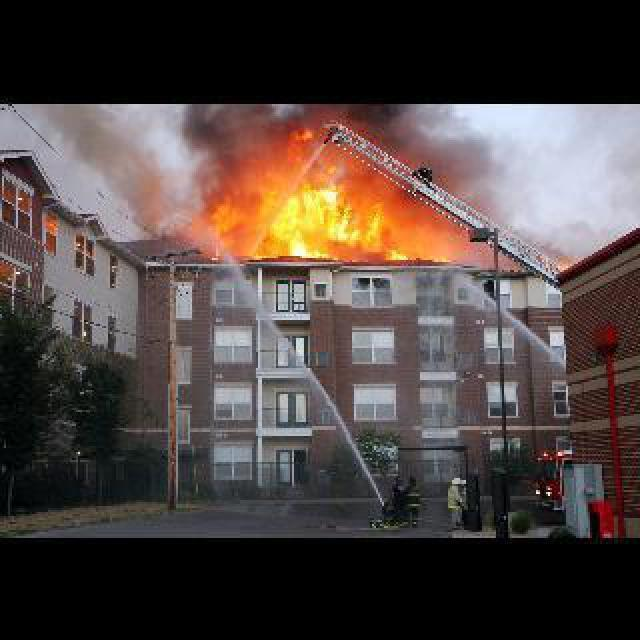Fire: (192, 118, 422, 262)
Smoke: (60, 108, 182, 236)
